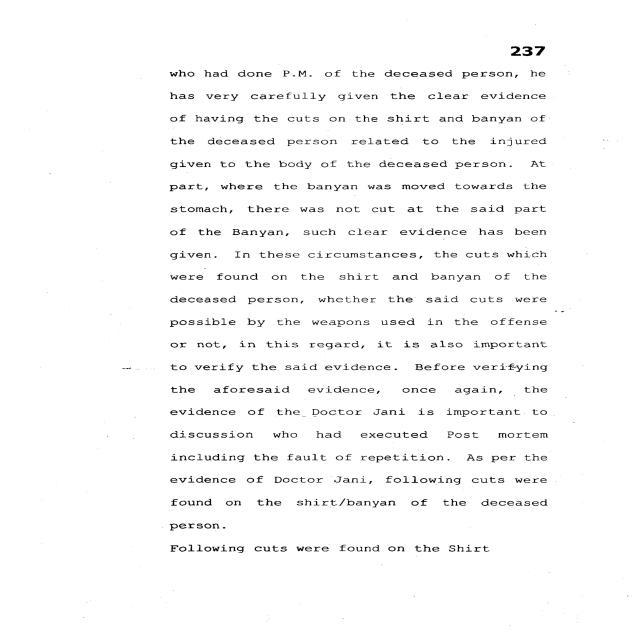page-number: (430, 0, 633, 60)
